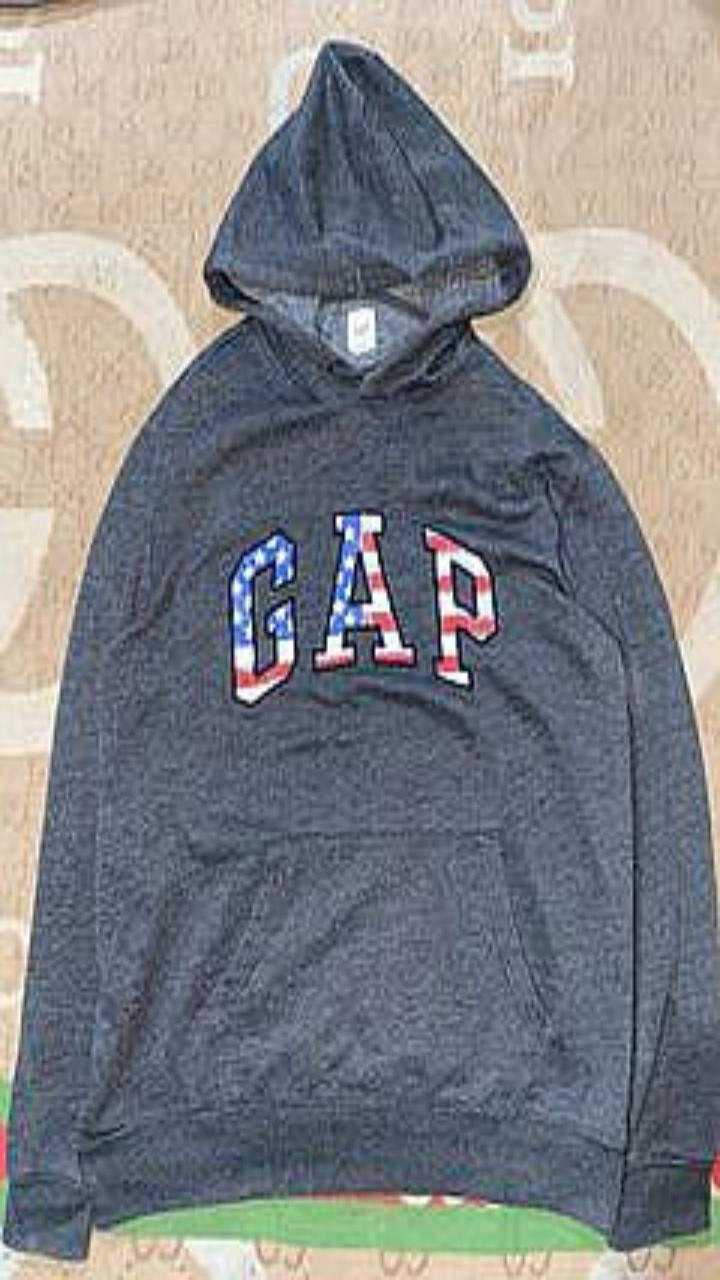Hoodie: (3, 39, 719, 1258)
